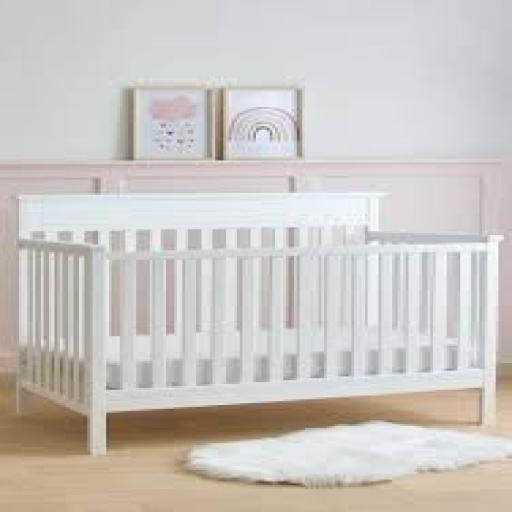crib: (15, 194, 495, 456)
